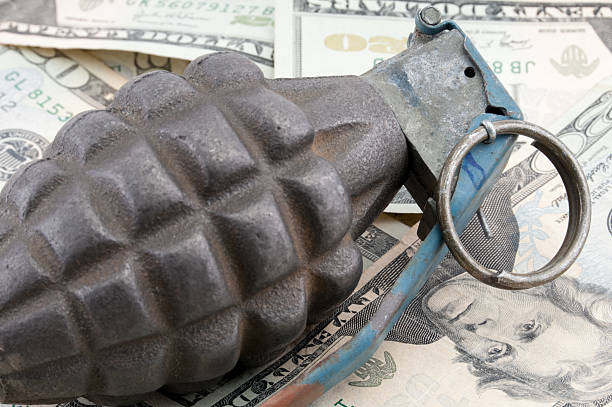e1: (1, 8, 594, 402)
